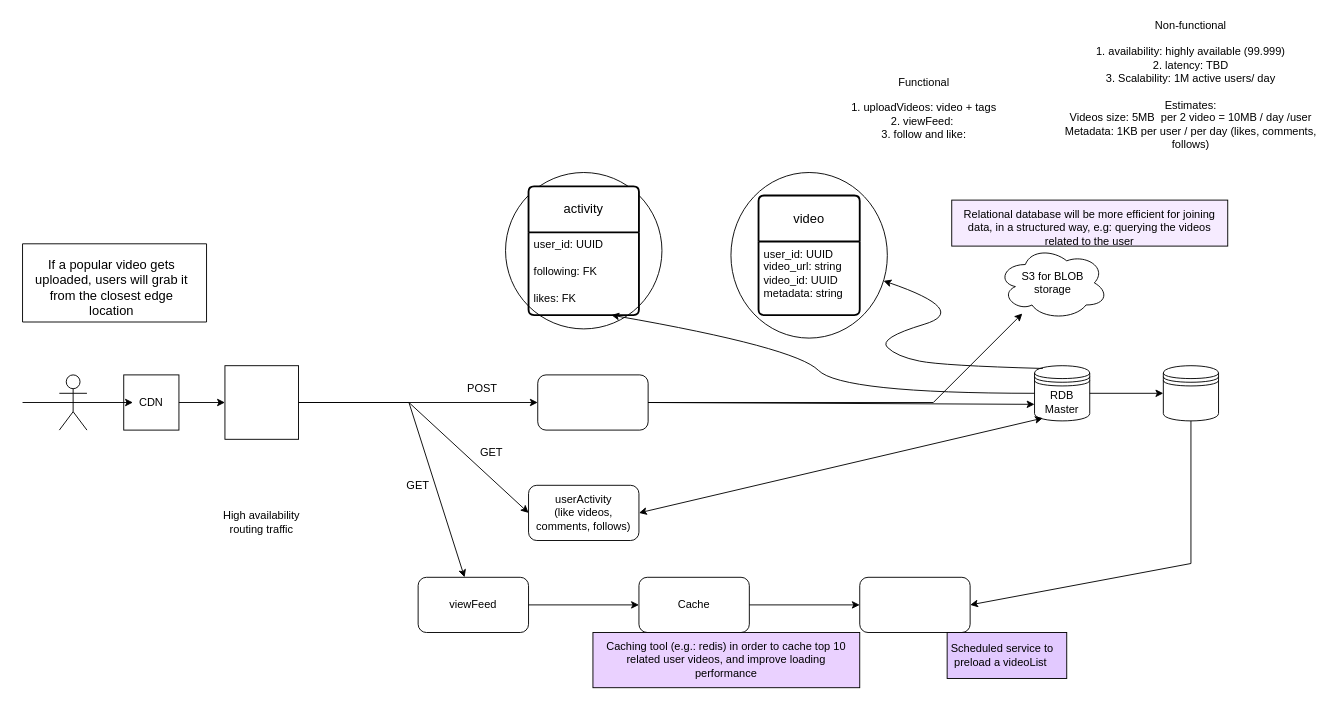
Image size: 1336x704. Some labels were removed from this diagram. Each missing label, with the centre of its shape:
Actor: the point at 72,402
ALB: the point at 261,402
caching-service: the point at 914,604
RDB Reader: the point at 1190,393
uploadVideo: the point at 592,402
